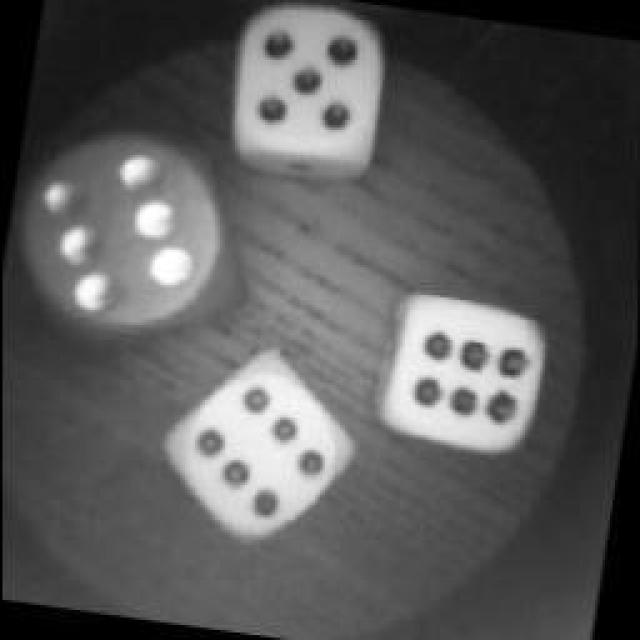dice_5: (214, 2, 404, 186)
dice_6: (0, 106, 270, 382), (149, 341, 369, 561), (359, 276, 559, 472)
